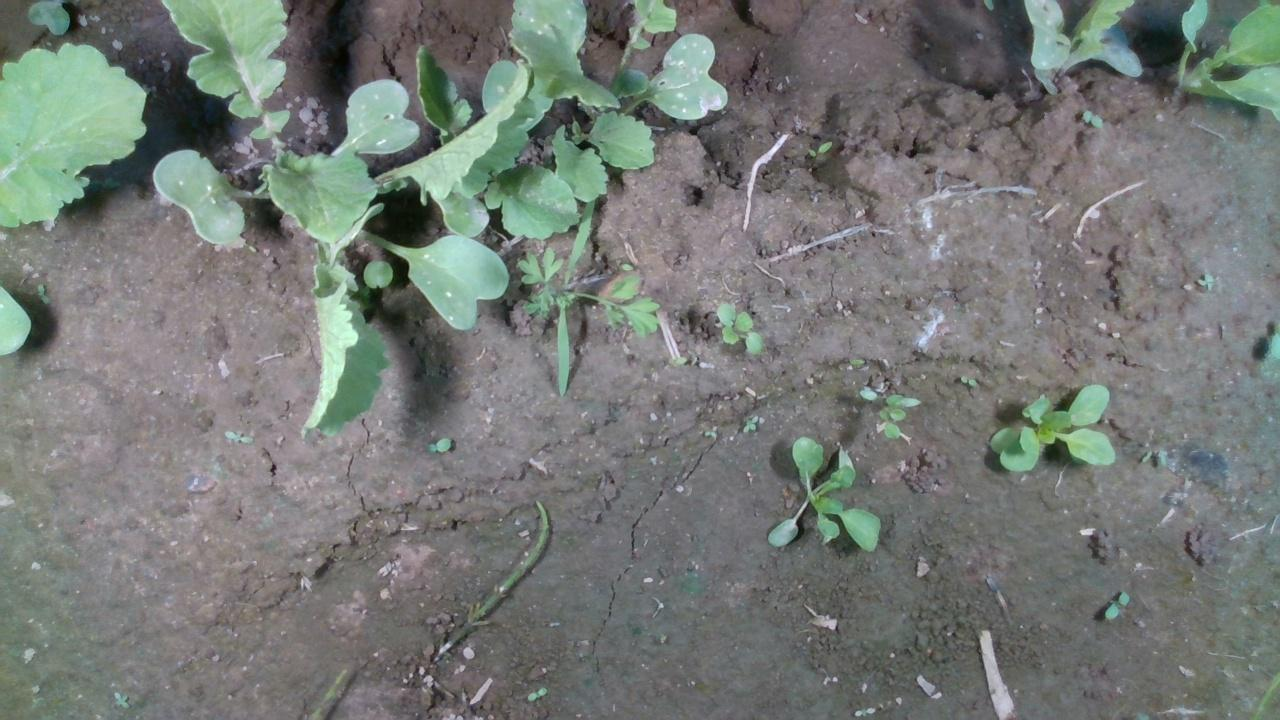weed: (714, 301, 766, 355), (1103, 588, 1130, 619), (805, 139, 832, 156), (222, 429, 254, 443), (424, 435, 451, 451), (740, 414, 758, 433), (525, 686, 547, 701), (112, 691, 130, 709), (958, 374, 978, 388)
